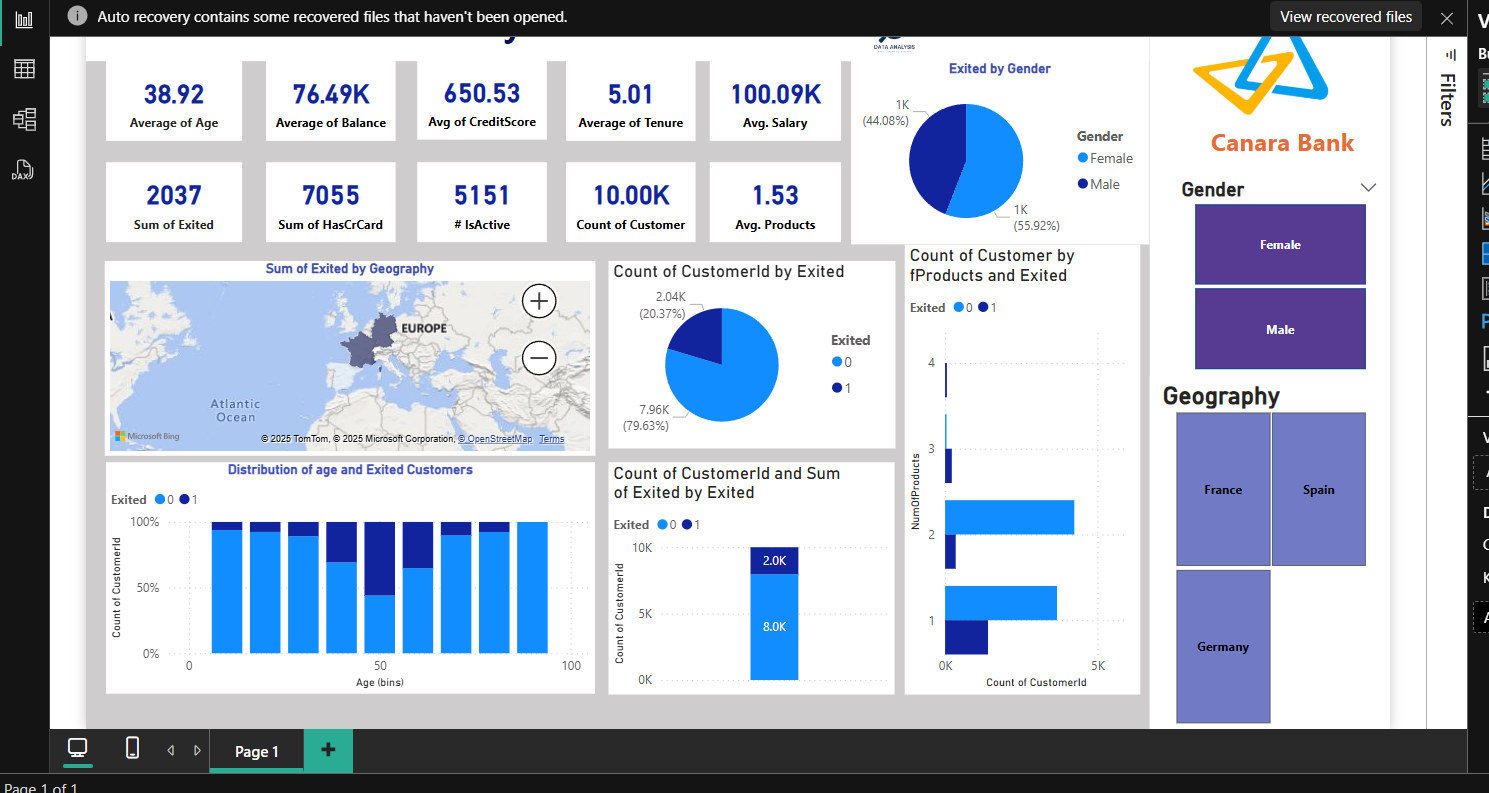

The dashboard page shown, as its layout file describes it:
{"tool":"powerbi","page":{"name":"Page 1","canvas":[1280,720],"ordinal":0},"visuals":[{"type":"textbox","box":[0,0,1043.8,63.8],"z":0},{"type":"shape","box":[1043.8,0,236.2,720],"z":1000},{"type":"image","box":[687.5,0,212.5,72.5],"z":2000},{"type":"image","box":[1062.5,6.2,181.2,115],"z":3000},{"type":"card","fields":{"Values":["Avg(Churn_Modelling.Age)"]},"box":[20,63.8,133.8,78.8],"z":4000},{"type":"card","fields":{"Values":["Avg(Churn_Modelling.Balance)"]},"box":[176.2,63.8,127.5,78.8],"z":5000},{"type":"card","fields":{"Values":["Avg(Churn_Modelling.CreditScore)"]},"box":[325,62.5,127.5,78.8],"z":6000},{"type":"card","fields":{"Values":["Avg(Churn_Modelling.Tenure)"]},"box":[471.2,63.8,127.5,78.8],"z":7000},{"type":"card","fields":{"Values":["Avg(Churn_Modelling.EstimatedSalary)"]},"box":[612.5,63.8,128.8,78.8],"z":8000},{"type":"card","fields":{"Values":["Sum(Churn_Modelling.Exited)"]},"box":[20,163.8,133.8,78.8],"z":9000},{"type":"card","fields":{"Values":["Sum(Churn_Modelling.HasCrCard)"]},"box":[176.2,163.8,127.5,78.8],"z":10000},{"type":"card","fields":{"Values":["Sum(Churn_Modelling.IsActiveMember)"]},"box":[325,163.8,127.5,78.8],"z":11000},{"type":"card","fields":{"Values":["Avg(Churn_Modelling.NumOfProducts)"]},"box":[612.5,163.8,128.8,78.8],"z":12000},{"type":"card","fields":{"Values":["CountNonNull(Churn_Modelling.CustomerId)"]},"box":[471.2,163.8,127.5,78.8],"z":13000},{"type":"slicer","fields":{"Values":["Churn_Modelling.Gender"]},"box":[1062.5,173.8,217.5,198.8],"z":14000},{"type":"slicer","fields":{"Values":["Churn_Modelling.Geography"]},"box":[1043.8,372.5,236.2,347.5],"z":15000},{"type":"pieChart","title":"Exited by Gender","fields":{"Category":["Churn_Modelling.Gender"],"Y":["Sum(Churn_Modelling.Exited)"]},"box":[751.2,63.8,292.5,180],"z":16000},{"type":"filledMap","fields":{"Category":["Churn_Modelling.Geography"]},"box":[18.8,260,481.2,191.2],"z":17000},{"type":"hundredPercentStackedColumnChart","title":"Distribution of age and Exited Customers","fields":{"Category":["Churn_Modelling.Age (bins)"],"Y":["CountNonNull(Churn_Modelling.CustomerId)"],"Series":["Churn_Modelling.Exited"]},"box":[20,457.5,480,227.5],"z":18000},{"type":"clusteredBarChart","title":"Count of Customer by fProducts and Exited","fields":{"Category":["Churn_Modelling.NumOfProducts"],"Y":["CountNonNull(Churn_Modelling.CustomerId)"],"Series":["Churn_Modelling.Exited"]},"box":[803.8,243.8,231.2,441.2],"z":19000},{"type":"pieChart","fields":{"Category":["Churn_Modelling.Exited"],"Y":["CountNonNull(Churn_Modelling.CustomerId)"]},"box":[512.5,260,281.2,183.8],"z":20000},{"type":"columnChart","fields":{"Series":["Churn_Modelling.Exited"],"Y":["CountNonNull(Churn_Modelling.CustomerId)"]},"box":[513,458,281,228],"z":21000},{"type":"textbox","box":[1100,121.2,170,42.5],"z":22000}]}

Visuals, with their boxes in screenshot pixels (x1, y1, x2, y2):
textbox: (left=19, top=0, right=1198, bottom=29)
shape: (left=1198, top=0, right=1464, bottom=770)
image: (left=795, top=0, right=1035, bottom=39)
image: (left=1219, top=0, right=1423, bottom=94)
card - Avg(Churn_Modelling.Age): (left=42, top=29, right=193, bottom=118)
card - Avg(Churn_Modelling.Balance): (left=218, top=29, right=362, bottom=118)
card - Avg(Churn_Modelling.CreditScore): (left=386, top=28, right=530, bottom=117)
card - Avg(Churn_Modelling.Tenure): (left=551, top=29, right=695, bottom=118)
card - Avg(Churn_Modelling.EstimatedSalary): (left=711, top=29, right=856, bottom=118)
card - Sum(Churn_Modelling.Exited): (left=42, top=142, right=193, bottom=231)
card - Sum(Churn_Modelling.HasCrCard): (left=218, top=142, right=362, bottom=231)
card - Sum(Churn_Modelling.IsActiveMember): (left=386, top=142, right=530, bottom=231)
card - Avg(Churn_Modelling.NumOfProducts): (left=711, top=142, right=856, bottom=231)
card - CountNonNull(Churn_Modelling.CustomerId): (left=551, top=142, right=695, bottom=231)
slicer - Churn_Modelling.Gender: (left=1219, top=154, right=1464, bottom=378)
slicer - Churn_Modelling.Geography: (left=1198, top=378, right=1464, bottom=770)
"Exited by Gender" pieChart: (left=867, top=29, right=1198, bottom=233)
filledMap - Churn_Modelling.Geography: (left=41, top=251, right=584, bottom=467)
"Distribution of age and Exited Customers" hundredPercentStackedColumnChart: (left=42, top=474, right=584, bottom=731)
"Count of Customer by fProducts and Exited" clusteredBarChart: (left=927, top=233, right=1188, bottom=731)
pieChart - Churn_Modelling.Exited x CountNonNull(Churn_Modelling.CustomerId): (left=598, top=251, right=915, bottom=458)
columnChart - Churn_Modelling.Exited x CountNonNull(Churn_Modelling.CustomerId): (left=598, top=474, right=916, bottom=732)
textbox: (left=1261, top=94, right=1453, bottom=142)
